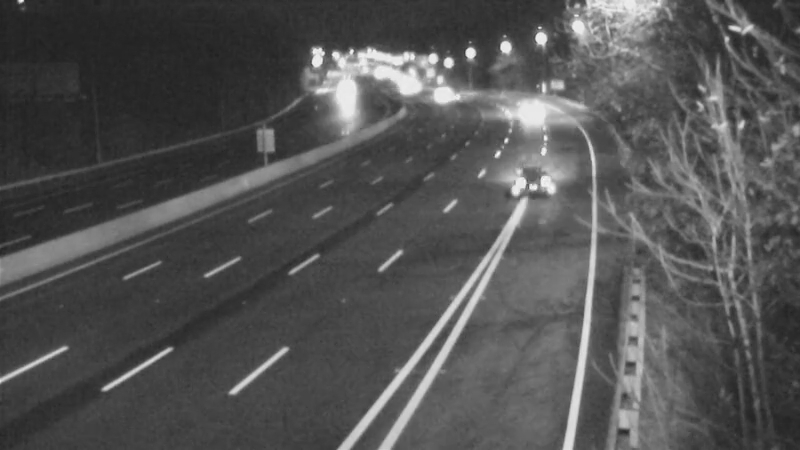vehicle: (490, 143, 570, 223), (416, 67, 466, 117), (501, 85, 551, 135), (317, 64, 367, 114)
